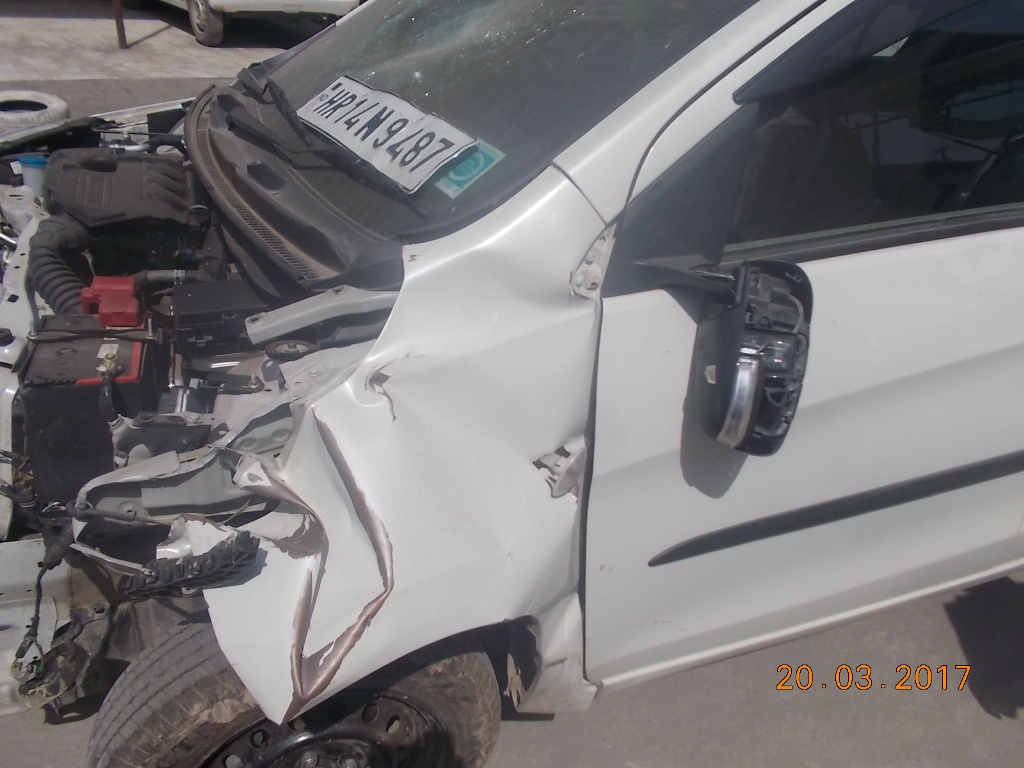Dent: (546, 583, 571, 668)
Large_tear_or_damage: (10, 113, 426, 643)
Tear: (528, 424, 587, 499)
